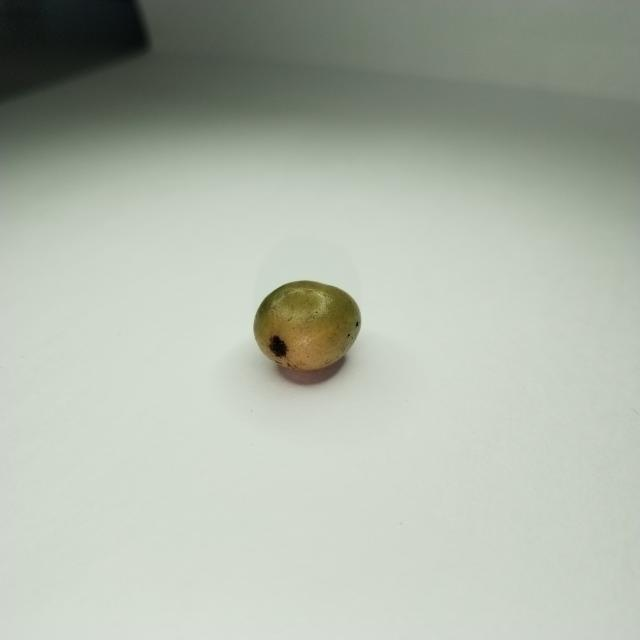Infectado: (255, 281, 361, 372)
